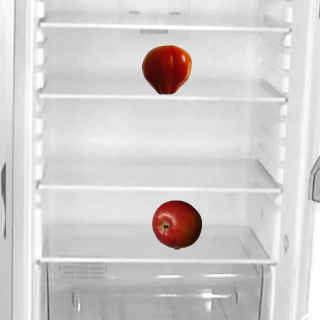Apple Braeburn: (151, 199, 201, 249)
Tomato 1: (141, 44, 191, 94)
